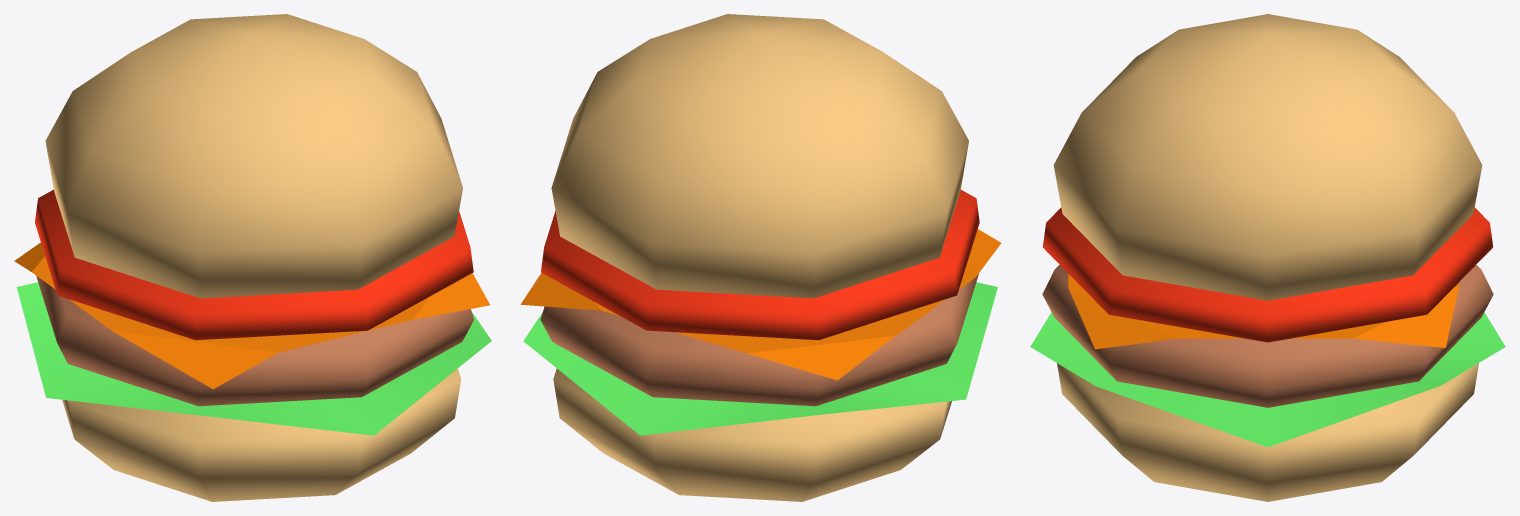
The model's file is hamburguer.glb.
3 views of the same model, side by side, from view 1: azimuth 30°, elevation 25°; view 2: azimuth 150°, elevation 25°; view 3: azimuth 270°, elevation 25° (orthographic).
Parts seen in each view (by area): view 1: Sphere; view 2: Sphere; view 3: Sphere.
Part boxes in pixels (<box>): Sphere: <box>14,14,491,501</box>; Sphere: <box>520,14,1001,501</box>; Sphere: <box>1030,14,1505,501</box>.
Size of the model in its own units: 2.11 by 1.95 by 2.12.
1 material, 1 textured.
